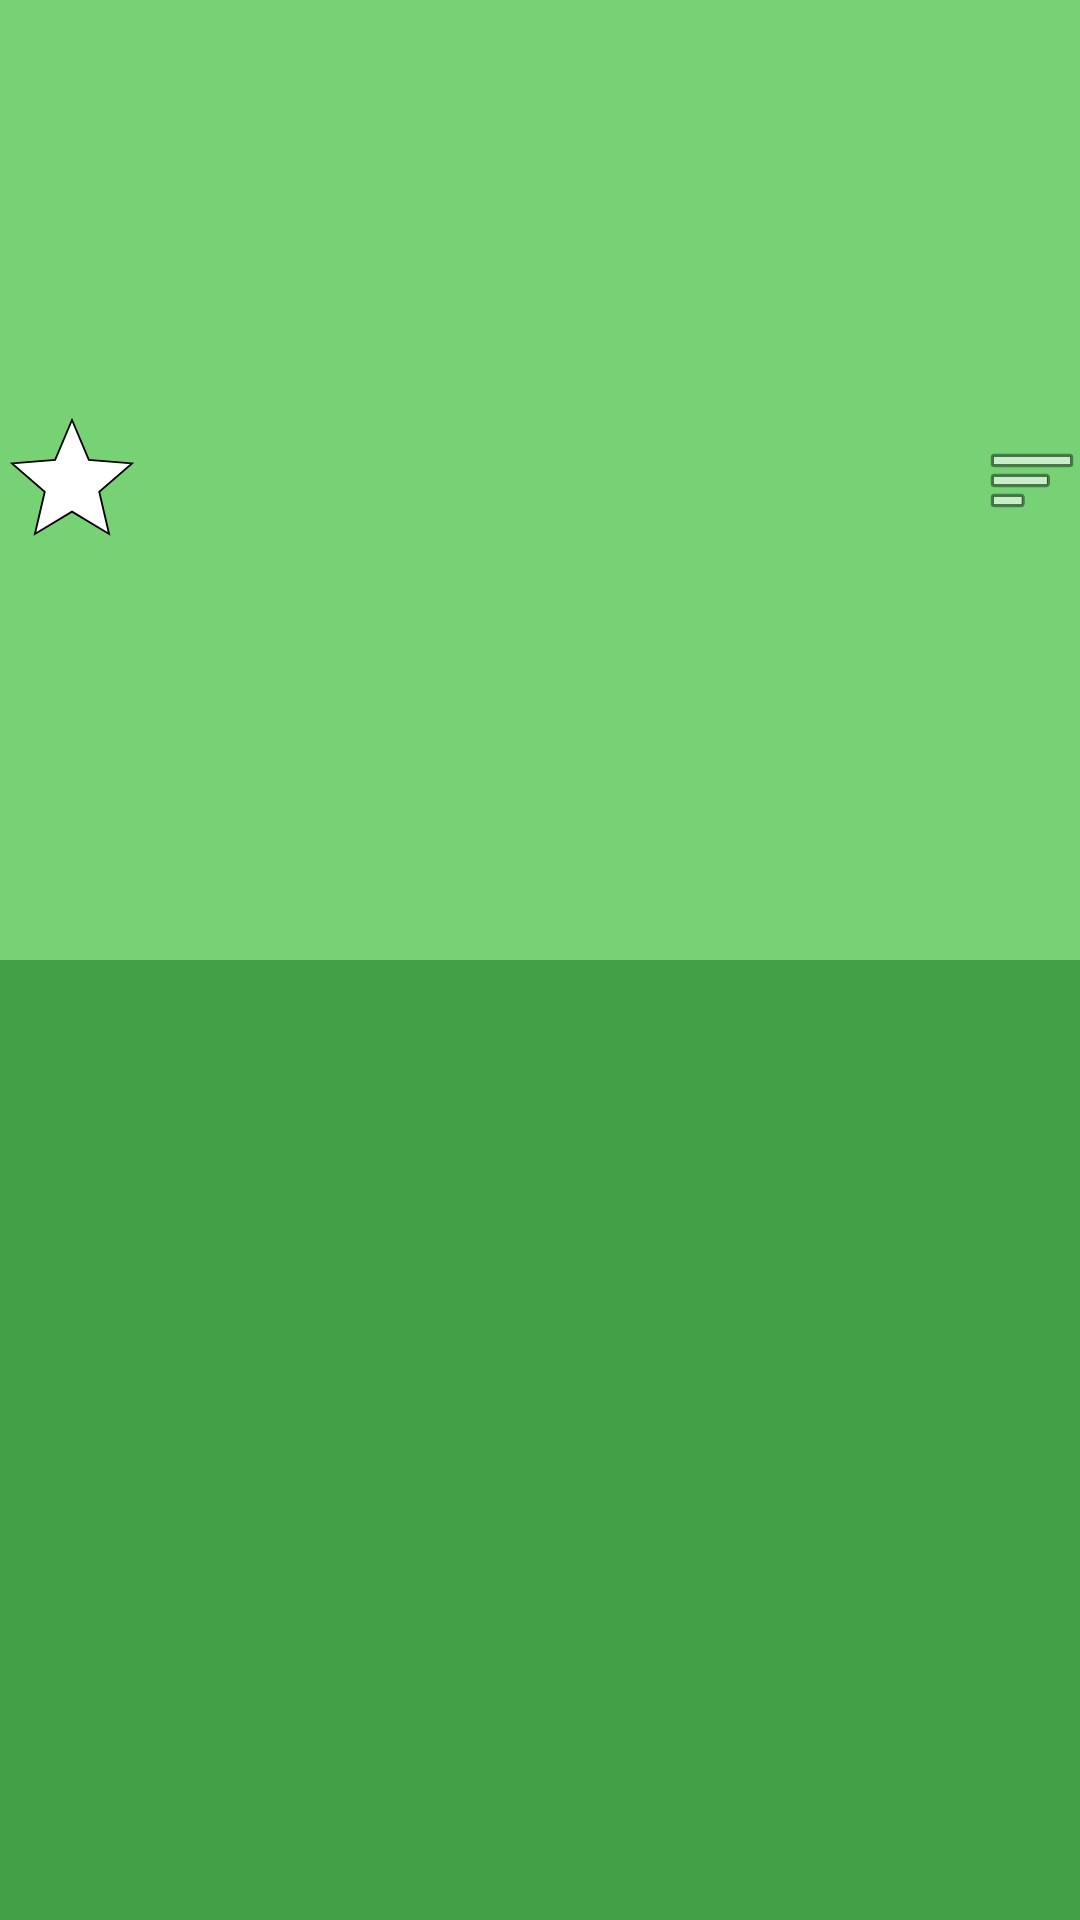

Icons on this 1080 × 1920 Android screen, each with its box as (x1=x1, y1=y1, x2=x2, y2=y2):
sort by size: (x1=991, y1=454, x2=1073, y2=507)
star: (x1=10, y1=418, x2=134, y2=536)
